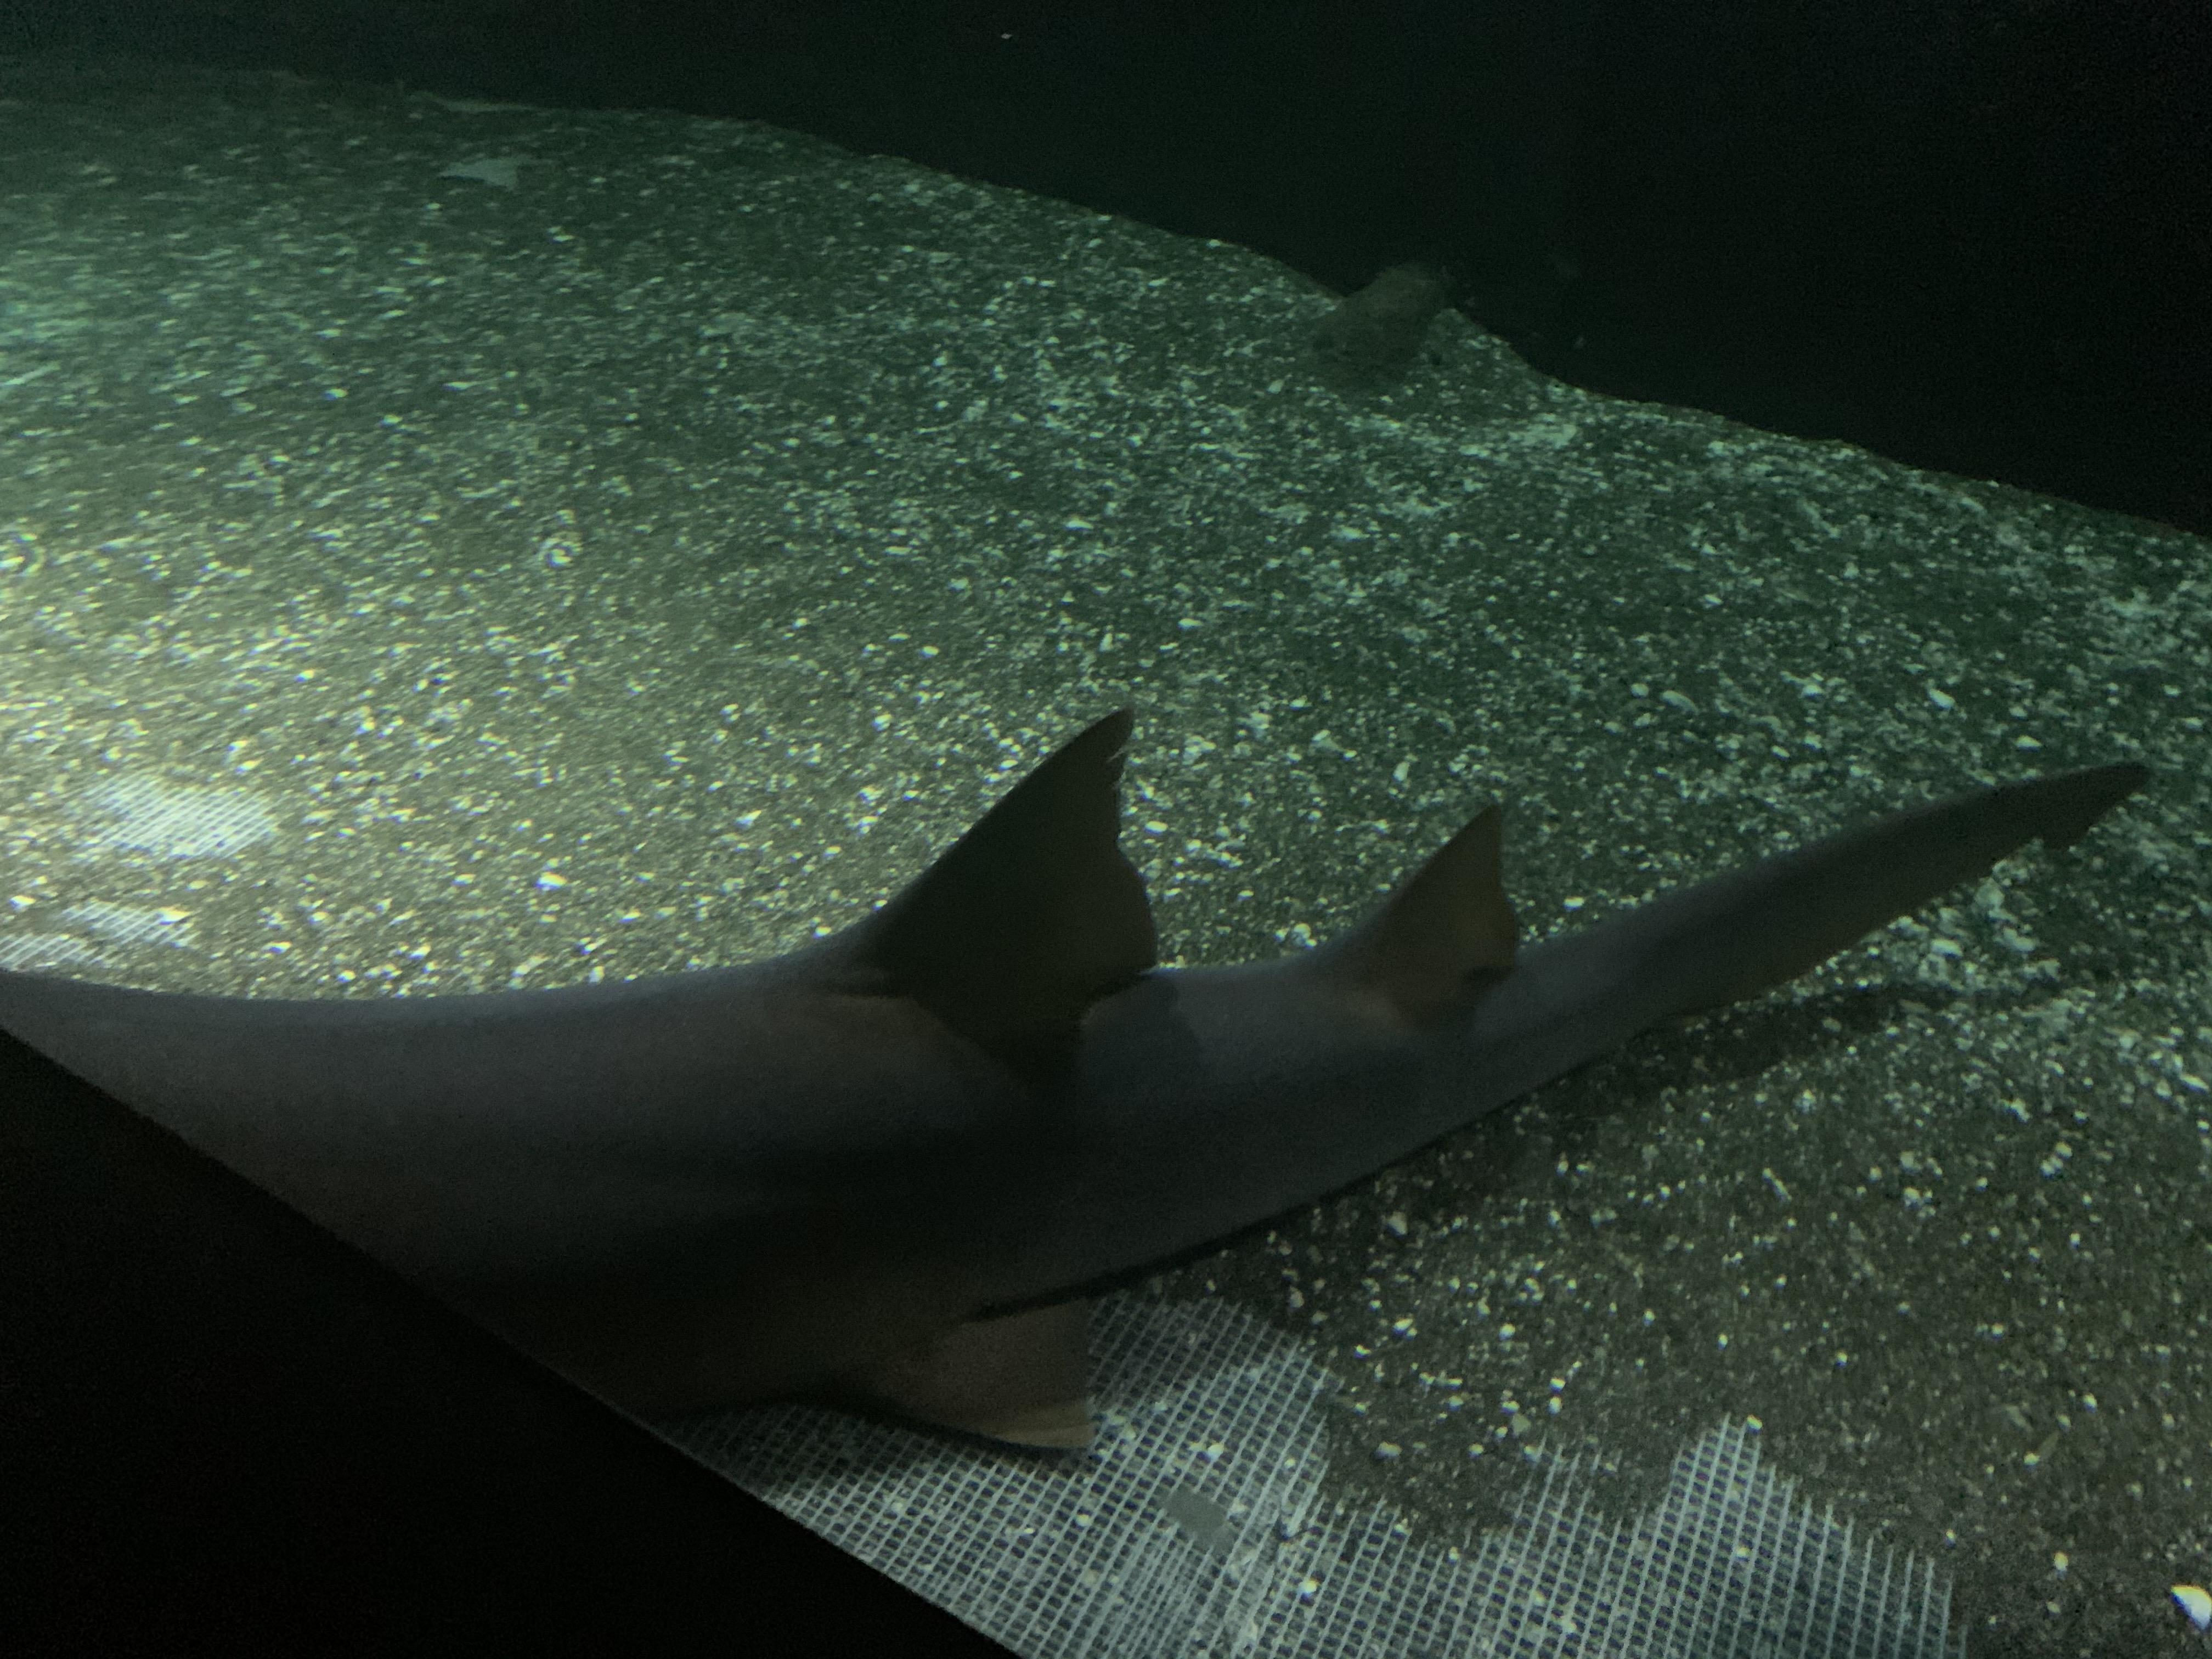shark: (0, 701, 2151, 1457)
